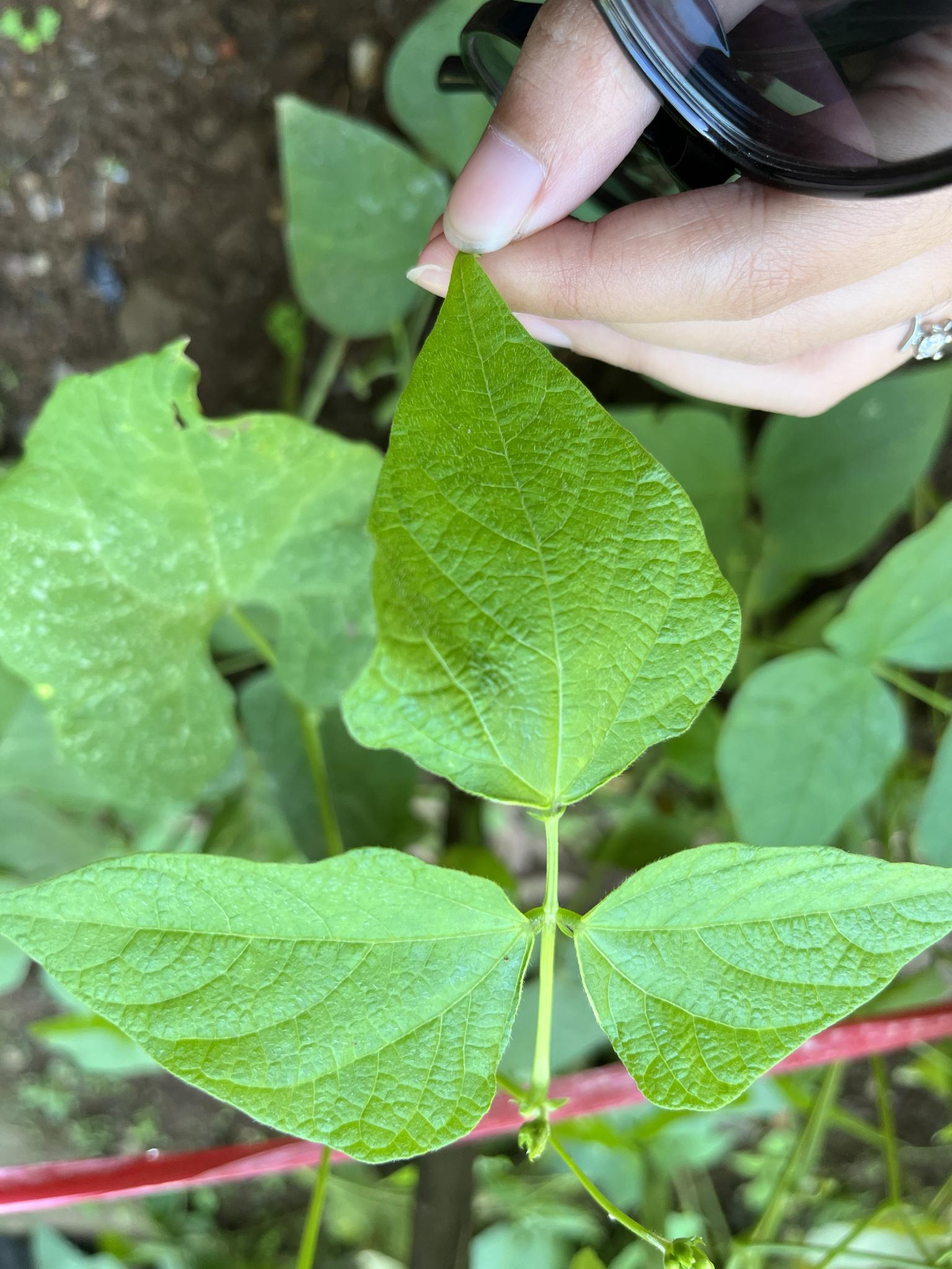sehat: (336, 235, 745, 812)
